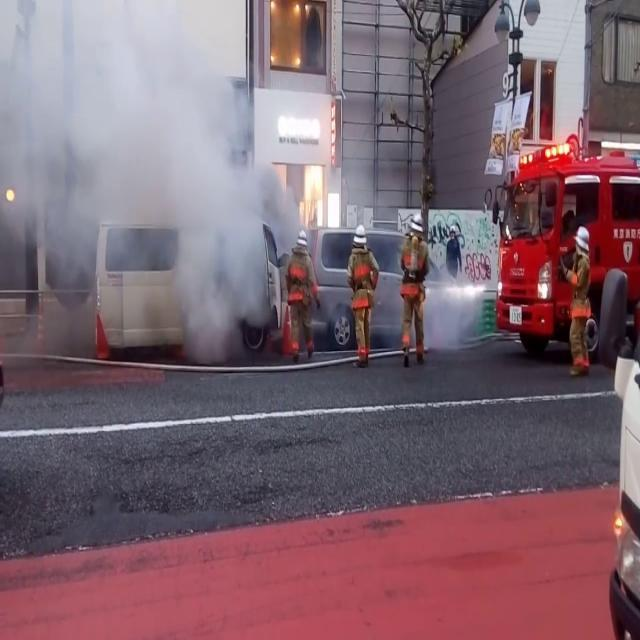Smoke: (0, 0, 298, 354)
